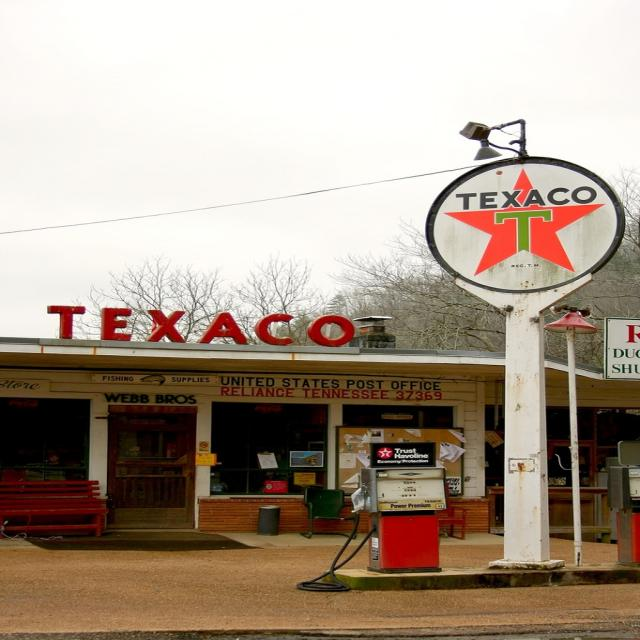texaco: (432, 163, 621, 291), (379, 450, 393, 459)
